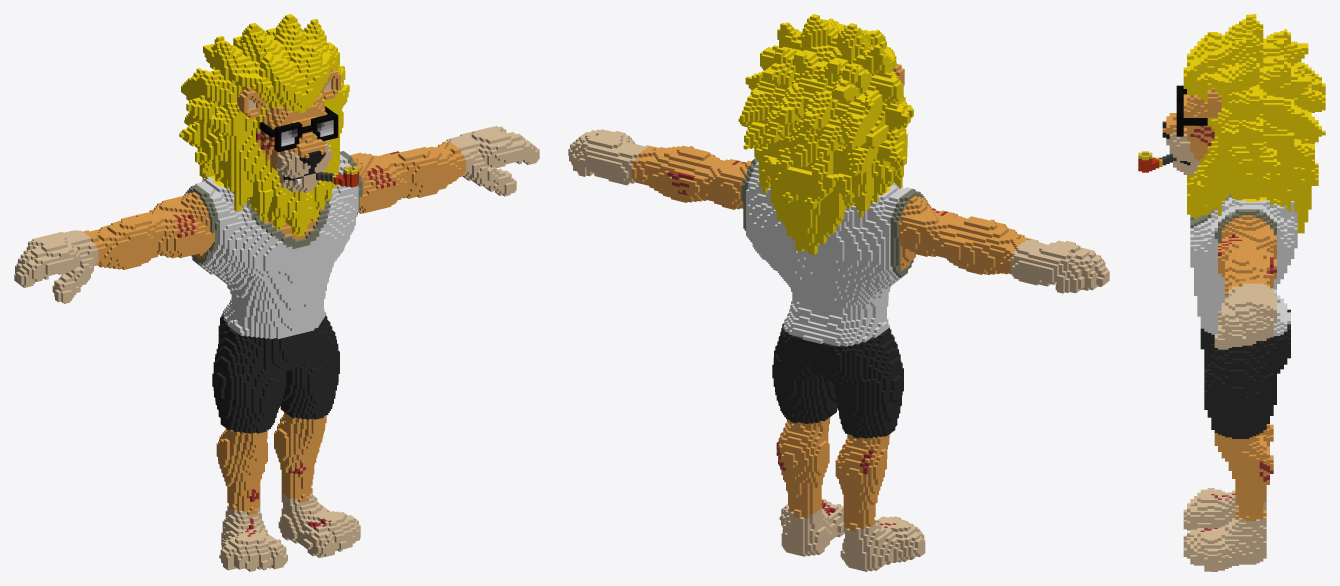
Rendered from 954-C5R9WsgF.glb.
3 views of the same model, side by side, from view 1: azimuth 30°, elevation 25°; view 2: azimuth 150°, elevation 25°; view 3: azimuth 270°, elevation 25° (orthographic). The views are drawn at different scales.
Parts seen in each view (by area): view 1: pipe; view 2: pipe; view 3: pipe.
Boxes of the visible parts, left/top/right/bottom form: pipe: left=14, top=14, right=539, bottom=571; pipe: left=568, top=14, right=1109, bottom=571; pipe: left=1138, top=14, right=1325, bottom=571.
Bounding box in the file's own units: 17.2 × 16.5 × 5.4.
Materials: 5 (5 with a texture image).
